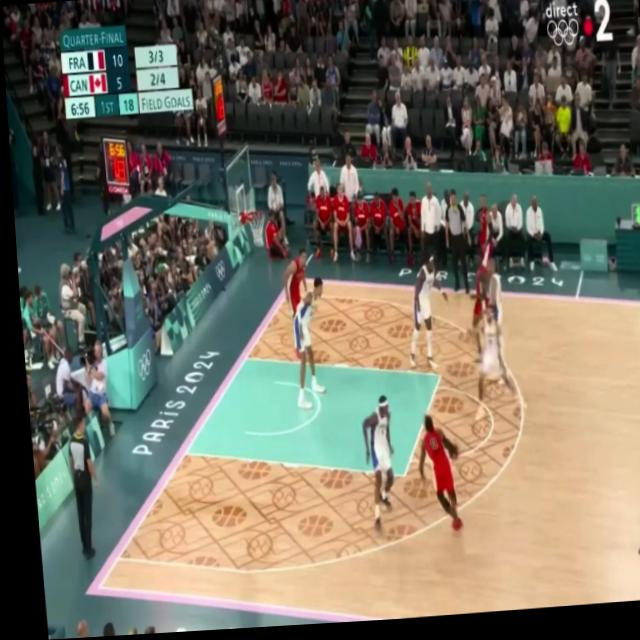ball_handler: (407, 417, 461, 540)
